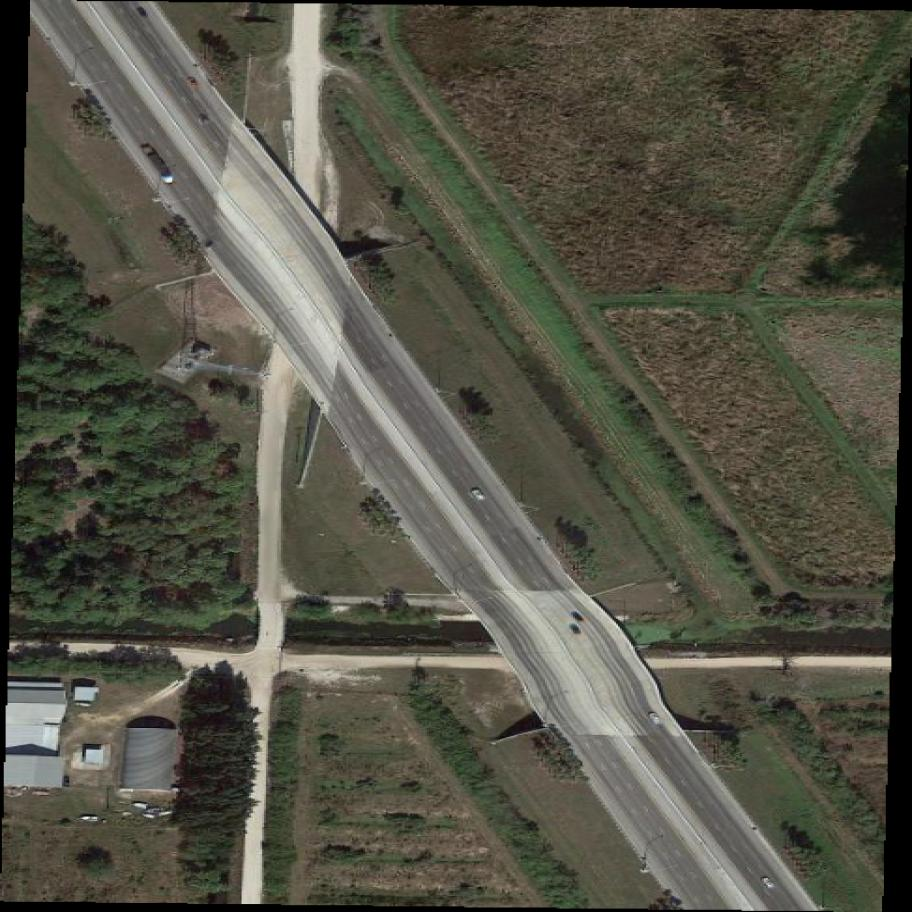ship: (79, 815, 101, 825), (133, 802, 154, 812), (148, 808, 167, 814)
small-vehicle: (648, 708, 667, 729), (470, 486, 489, 506), (760, 874, 779, 893), (569, 608, 589, 626), (199, 109, 215, 129), (137, 3, 152, 21), (569, 622, 584, 639), (187, 75, 200, 90)
